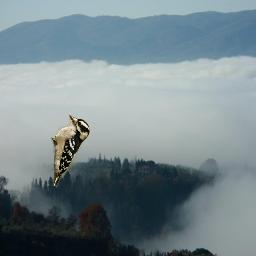Woodpecker: (51, 115, 90, 186)
